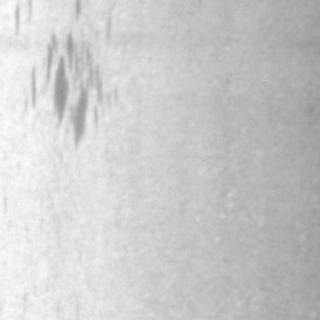inclusion: (21, 18, 113, 146)
